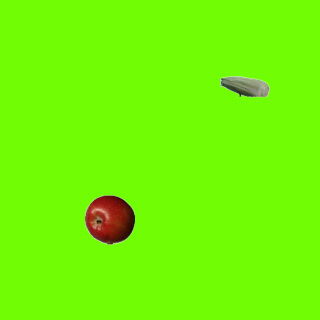Apple Braeburn: (84, 194, 134, 244)
Corn Husk: (219, 61, 269, 111)
